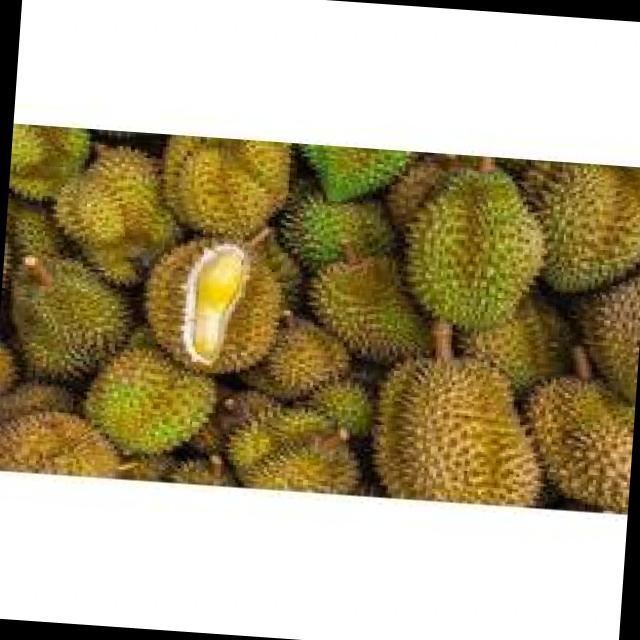fruit: (358, 336, 572, 508), (384, 153, 565, 346), (122, 219, 304, 401), (0, 233, 152, 403), (70, 326, 232, 471), (504, 356, 638, 512), (559, 254, 640, 427)
